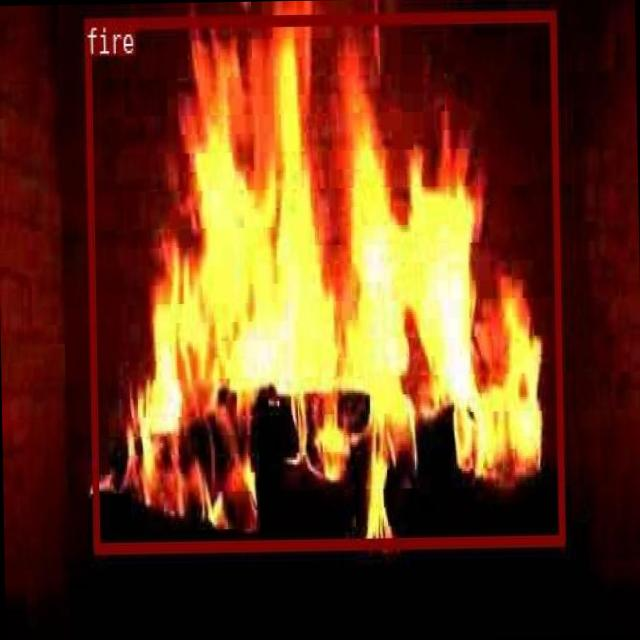fire: (84, 8, 564, 550)
